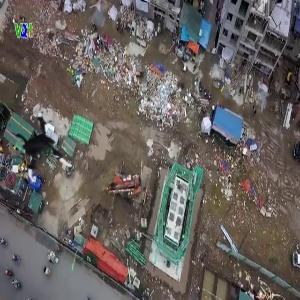drone: (2, 106, 82, 186)
